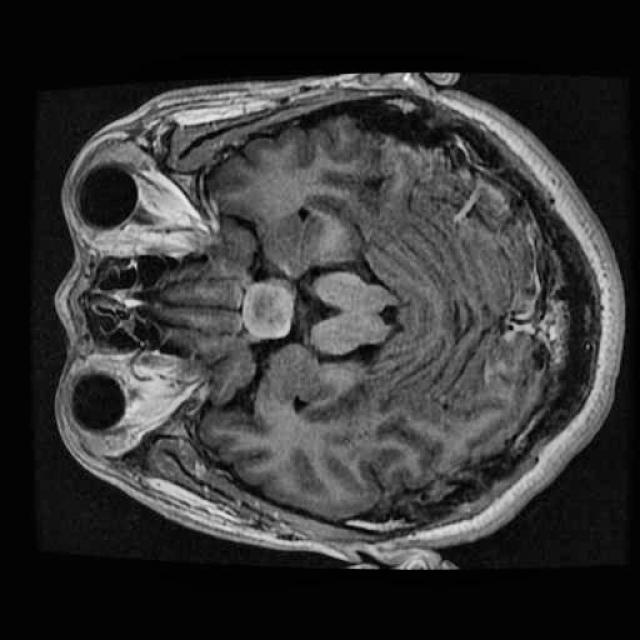Tumor: (239, 271, 302, 352)
